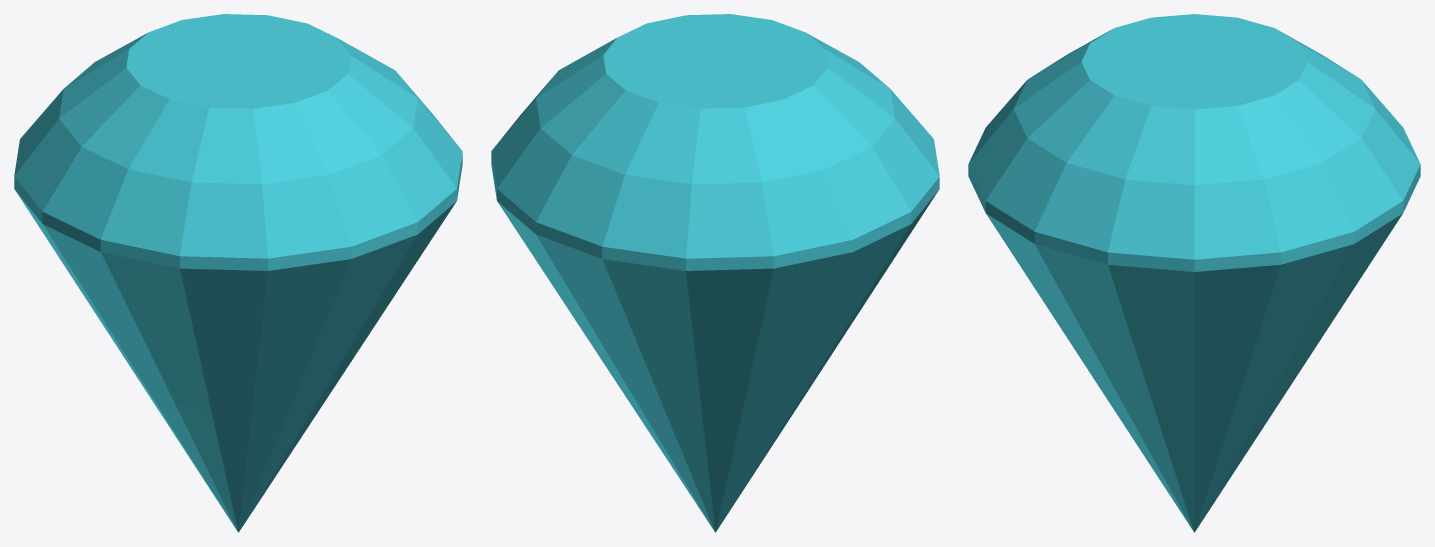
Rendered from SM_Aquamarine_Perfect.fbx.
3 renders of one model, left to right at view 1: azimuth 30°, elevation 25°; view 2: azimuth 150°, elevation 25°; view 3: azimuth 270°, elevation 25°, orthographic.
Visible parts, largest first — view 1: SM_Aquamarine_Perfect; view 2: SM_Aquamarine_Perfect; view 3: SM_Aquamarine_Perfect.
Boxes of the visible parts, x1=… form: SM_Aquamarine_Perfect: x1=14, y1=14, x2=462, y2=532; SM_Aquamarine_Perfect: x1=491, y1=14, x2=939, y2=532; SM_Aquamarine_Perfect: x1=968, y1=14, x2=1420, y2=532.
Bounding box in the file's own units: 20 × 20 × 23.
